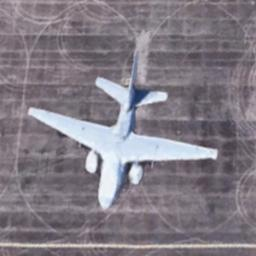Airplane: (26, 34, 219, 215)
